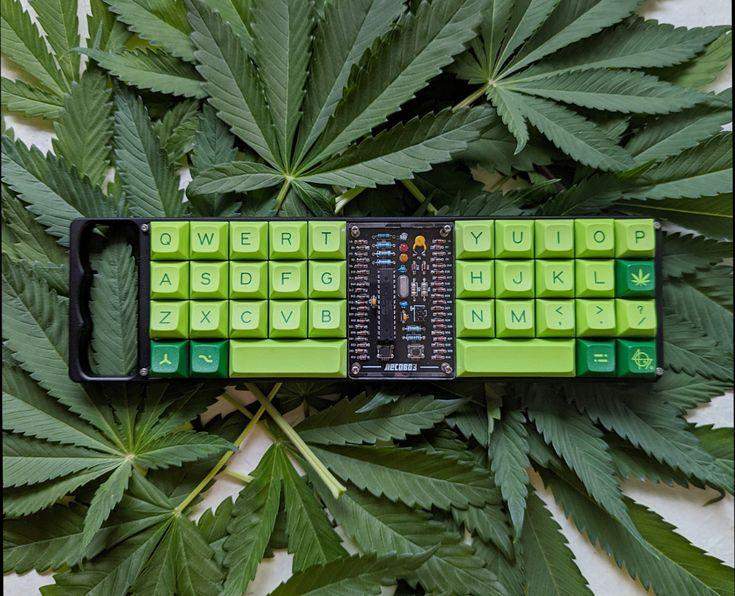keyboard: (65, 215, 666, 390)
